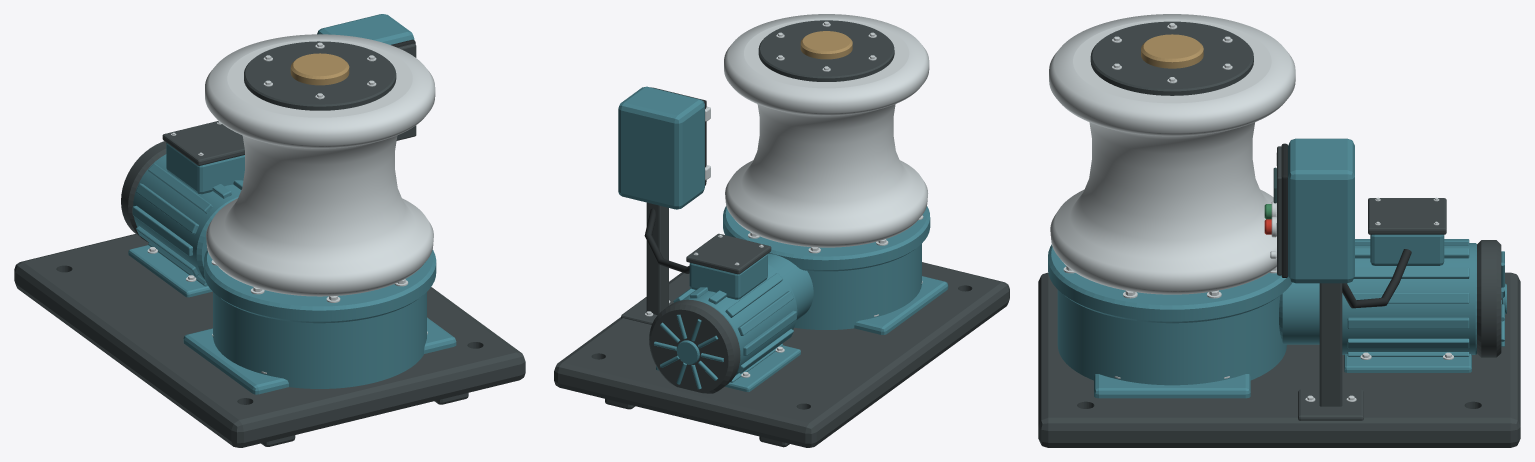
File: city-mooring-capstan.glb
3 renders of one model, left to right at view 1: azimuth 30°, elevation 25°; view 2: azimuth 150°, elevation 25°; view 3: azimuth 270°, elevation 25°, orthographic. The views are drawn at different scales.
Visible parts, largest first — view 1: Assembly | Graphite structural finish, Assembly | Satin stainless hardware, Assembly | Desaturated marine blue machinery enamel, Assembly | Dull bronze bearing detail; view 2: Assembly | Graphite structural finish, Assembly | Satin stainless hardware, Assembly | Desaturated marine blue machinery enamel, Assembly | Dull bronze bearing detail, Assembly | Black polymer rollers and fenders; view 3: Assembly | Graphite structural finish, Assembly | Desaturated marine blue machinery enamel, Assembly | Satin stainless hardware, Assembly | Black polymer rollers and fenders, Assembly | Dull bronze bearing detail.
Boxes of the visible parts, bbox=[...] form: Assembly | Graphite structural finish: bbox=[14, 41, 525, 447]; Assembly | Satin stainless hardware: bbox=[147, 34, 435, 373]; Assembly | Desaturated marine blue machinery enamel: bbox=[128, 14, 456, 394]; Assembly | Dull bronze bearing detail: bbox=[290, 53, 349, 85]; Assembly | Graphite structural finish: bbox=[554, 20, 1009, 447]; Assembly | Satin stainless hardware: bbox=[645, 14, 929, 377]; Assembly | Desaturated marine blue machinery enamel: bbox=[618, 86, 948, 392]; Assembly | Dull bronze bearing detail: bbox=[800, 31, 852, 59]; Assembly | Black polymer rollers and fenders: bbox=[644, 87, 706, 273]; Assembly | Graphite structural finish: bbox=[1038, 21, 1520, 447]; Assembly | Desaturated marine blue machinery enamel: bbox=[1048, 138, 1506, 398]; Assembly | Satin stainless hardware: bbox=[1049, 14, 1453, 401]; Assembly | Black polymer rollers and fenders: bbox=[1281, 143, 1411, 308]; Assembly | Dull bronze bearing detail: bbox=[1141, 34, 1203, 68].
Size of the model in its own units: 0.8935 by 0.9295 by 1.17.
